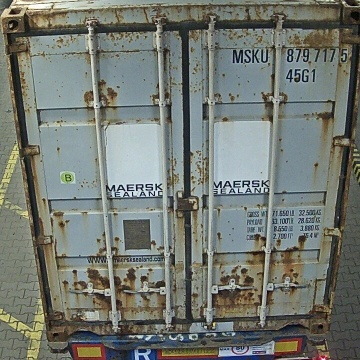serial_id: (232, 47, 348, 62)
